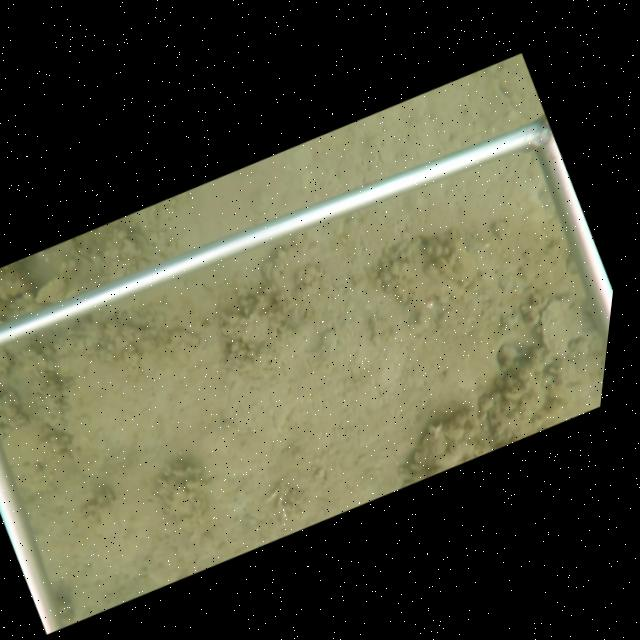Oyster-Indeterminate: (534, 286, 604, 356)
